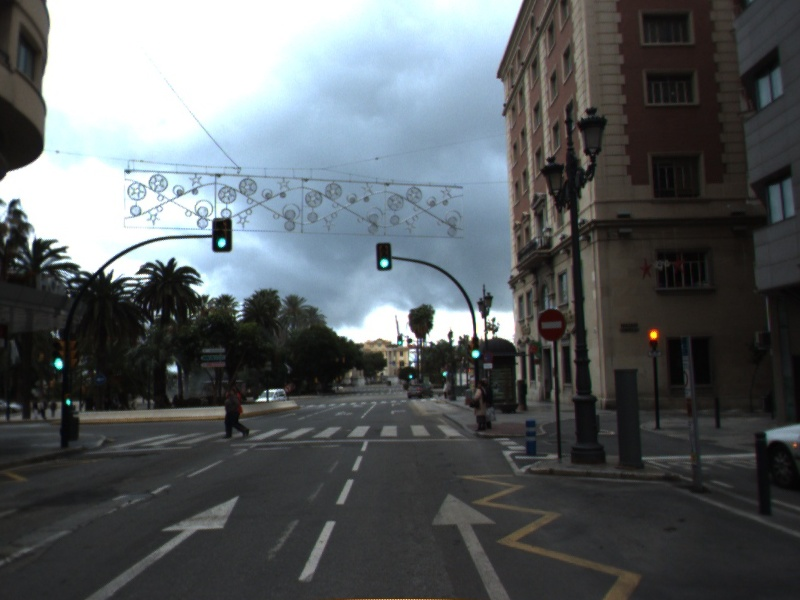STRAIGHT: (83, 491, 243, 600), (427, 489, 515, 600)
